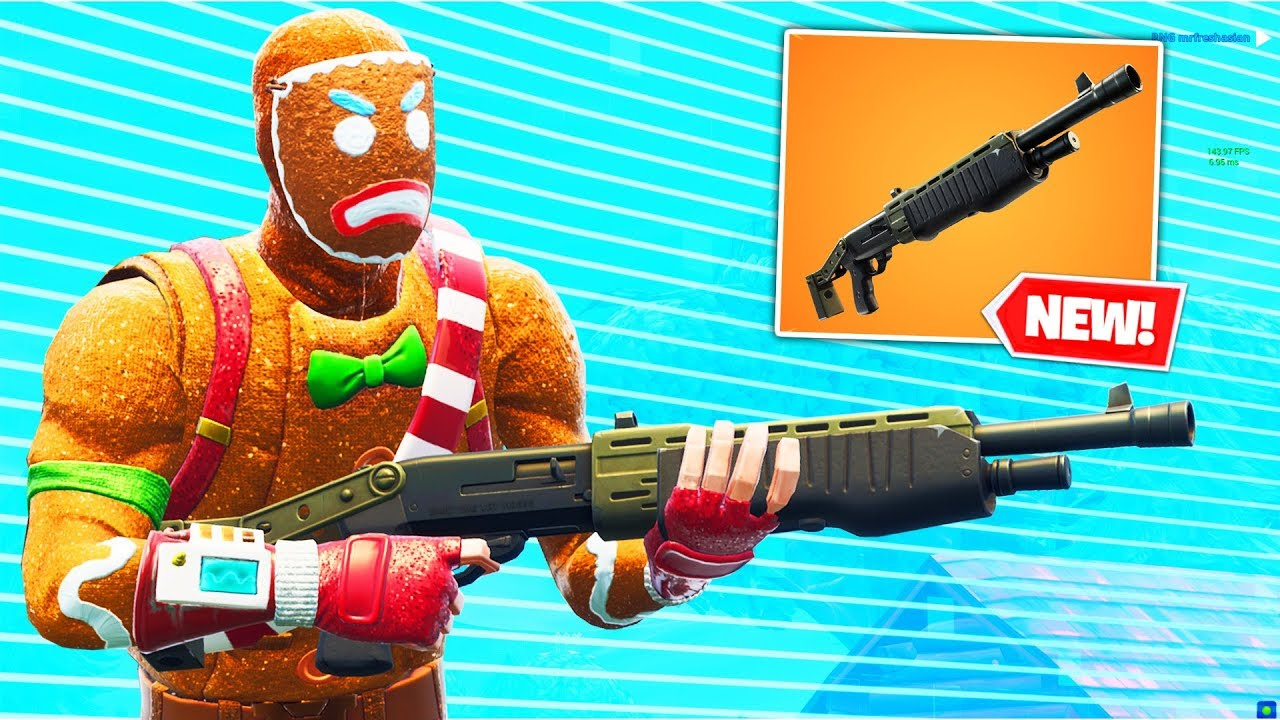Gun: (553, 392, 1206, 535)
